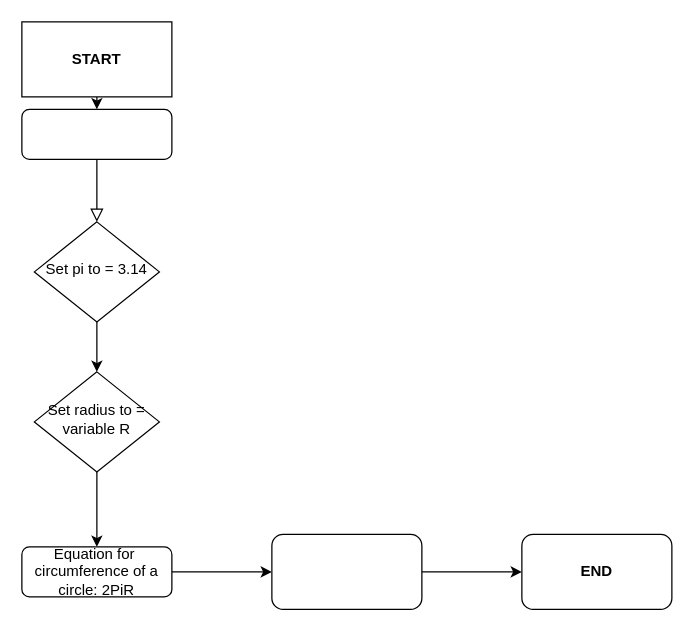
This 694x631 diagram has some shape labels left out. The shapes that lost their labels are listed below. From the top down, each one's centre as x and y in pixels, then its label:
At point (96, 133): "Class: Compute area of a circle".
At point (346, 571): "Print circumference of a circle".
